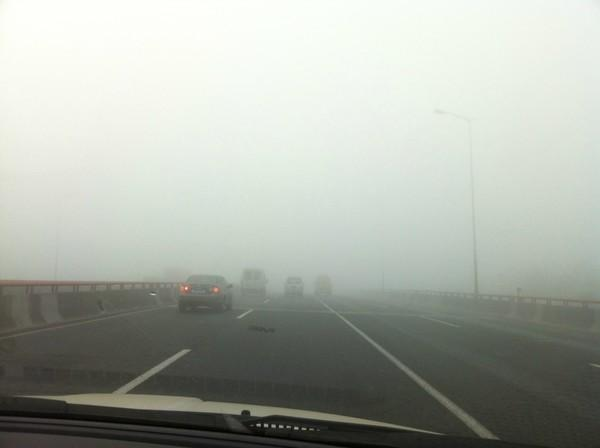car: (178, 274, 235, 312), (239, 267, 268, 296), (312, 274, 333, 295), (282, 276, 304, 295)
